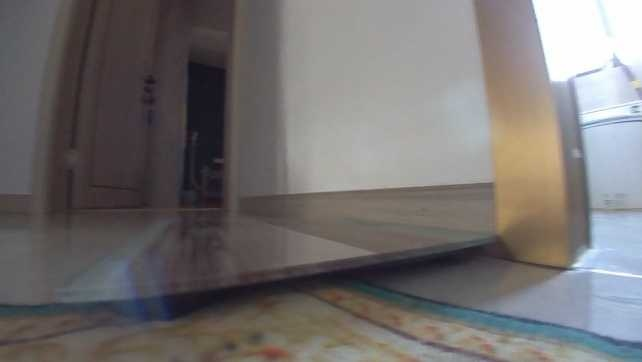toilet: (576, 97, 640, 212)
weight_scale: (53, 207, 498, 321)
